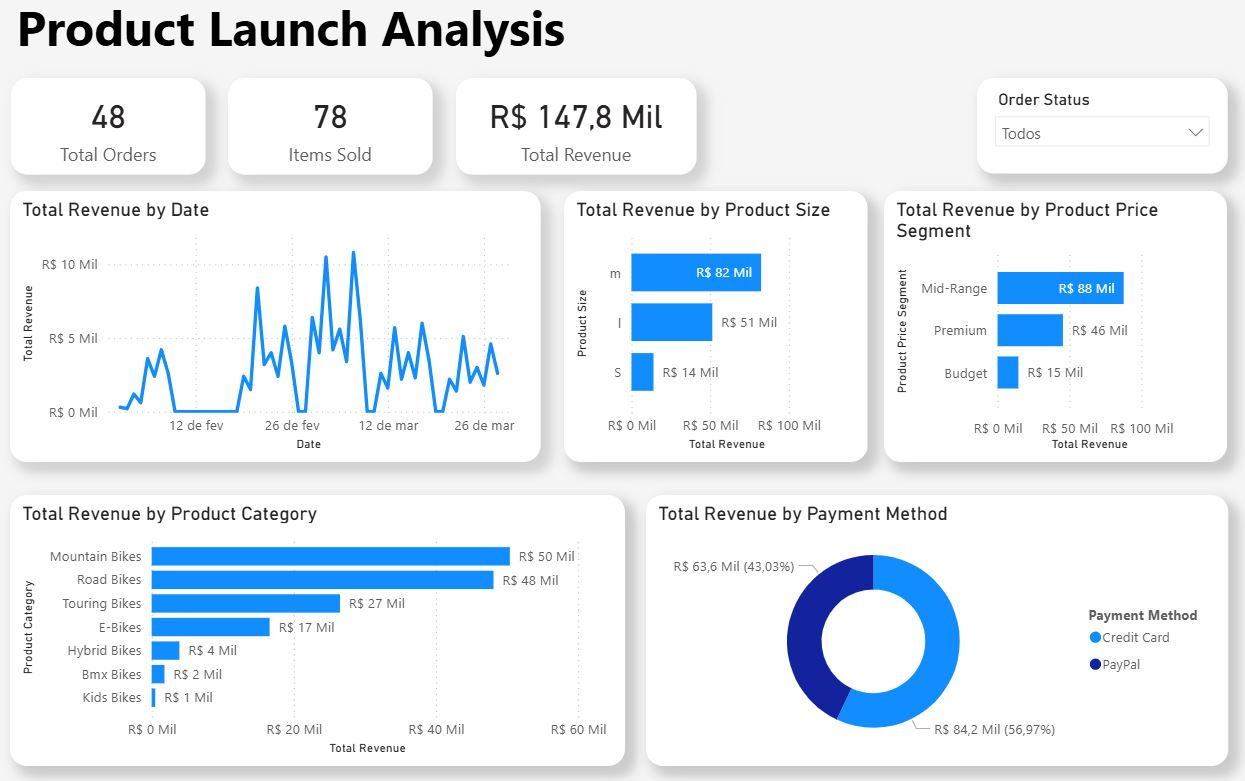

The dashboard page shown, as its layout file describes it:
{"tool":"powerbi","page":{"name":"Product Launch Analysis","canvas":[1280,720],"ordinal":0},"visuals":[{"type":"barChart","title":"Total Revenue by Product Category","fields":{"Y":["Sales.Total Revenue"],"Category":["Sales.Product Category","Sales.Product Subcategory","Sales.Product Name"]},"box":[29,463.3,546.5,241.3],"z":1000},{"type":"donutChart","title":"Total Revenue by Payment Method","fields":{"Y":["Sales.Total Revenue"],"Category":["Sales.Payment Method"]},"box":[594.8,463.3,517.6,241.3],"z":2000},{"type":"slicer","fields":{"Values":["Sales.Order Status"]},"box":[889.5,92.5,223.3,85.4],"z":3000},{"type":"card","fields":{"Values":["Sales.Total Revenue"]},"box":[426.5,92.2,213.7,86],"z":4000},{"type":"card","title":"Order Quantity","fields":{"Values":["Count(Sales.Order ID)"]},"box":[30.1,92.2,172.9,86],"z":5000},{"type":"card","fields":{"Values":["Sum(Sales.Order Quantity)"]},"box":[223.4,92.2,181.8,86],"z":6000},{"type":"lineChart","title":"Total Revenue by Date","fields":{"Category":["Calendar.Date.Variation.Hierarquia de datas.Ano"],"Y":["Sales.Total Revenue"]},"box":[29,193,471.7,241.3],"z":7000},{"type":"textbox","box":[30.1,13.3,602.1,68.3],"z":8000},{"type":"barChart","title":"Total Revenue by Product Size","fields":{"Y":["Sales.Total Revenue"],"Category":["Sales.Product Size"]},"box":[522.4,193,270.2,241.3],"z":9000},{"type":"clusteredBarChart","title":"Total Revenue by Product Price Segment","fields":{"Category":["Sales.Product Price Segment"],"Y":["Sales.Total Revenue"]},"box":[807.1,193,305.2,241.3],"z":10000}]}

Visuals, with their boxes on the page's 1280x720 design canvas (x1, y1, x2, y2). These are canvas units, not pixel positions in the 1245x781 screenshot, which may show the page scaled, cropped or inside an application window:
"Total Revenue by Product Category" barChart: [29, 463, 576, 705]
"Total Revenue by Payment Method" donutChart: [595, 463, 1112, 705]
slicer - Sales.Order Status: [890, 92, 1113, 178]
card - Sales.Total Revenue: [426, 92, 640, 178]
"Order Quantity" card: [30, 92, 203, 178]
card - Sum(Sales.Order Quantity): [223, 92, 405, 178]
"Total Revenue by Date" lineChart: [29, 193, 501, 434]
textbox: [30, 13, 632, 82]
"Total Revenue by Product Size" barChart: [522, 193, 793, 434]
"Total Revenue by Product Price Segment" clusteredBarChart: [807, 193, 1112, 434]
